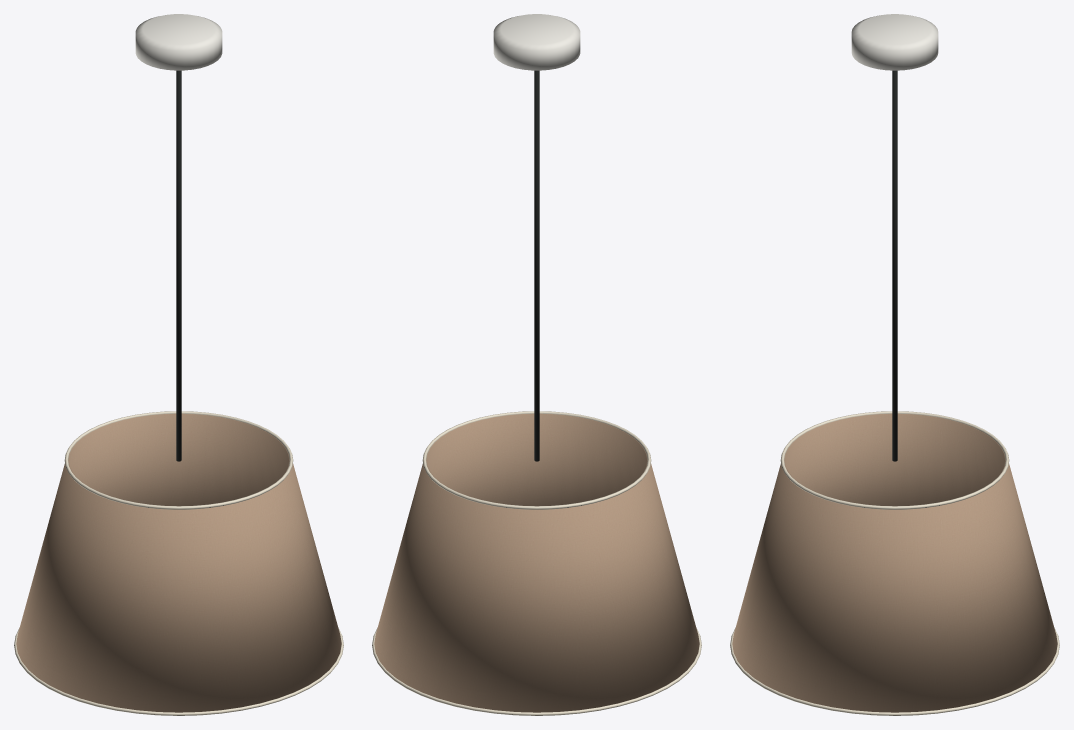
File: scandinavian.pendant.gltf
3 renders of one model, left to right at view 1: azimuth 30°, elevation 25°; view 2: azimuth 150°, elevation 25°; view 3: azimuth 270°, elevation 25°, orthographic.
Parts seen in each view (by area): view 1: scandinavian.pendant.ceiling-rose; view 2: scandinavian.pendant.ceiling-rose; view 3: scandinavian.pendant.ceiling-rose.
Part boxes in pixels (<box>): scandinavian.pendant.ceiling-rose: <box>14,14,343,715</box>; scandinavian.pendant.ceiling-rose: <box>372,14,701,715</box>; scandinavian.pendant.ceiling-rose: <box>730,14,1059,715</box>.
Bounding box in the file's own units: 0.364 × 0.7517 × 0.364.
Materials: 5 (1 with a texture image).
